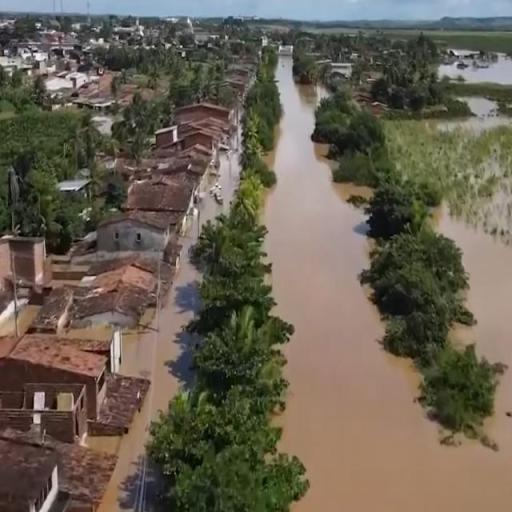flood: (262, 55, 512, 512), (86, 223, 199, 512), (199, 152, 238, 223), (439, 97, 512, 130), (441, 54, 512, 84)
house: (0, 346, 114, 420), (0, 439, 67, 512), (98, 208, 171, 252), (131, 181, 199, 226), (2, 234, 51, 288), (178, 102, 234, 131)
